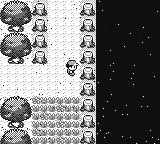captura: (32, 97, 80, 143)
main: (66, 61, 78, 75)
no-caminable: (96, 0, 159, 143), (79, 1, 95, 143), (0, 0, 31, 65), (0, 97, 31, 143), (32, 0, 47, 65)
